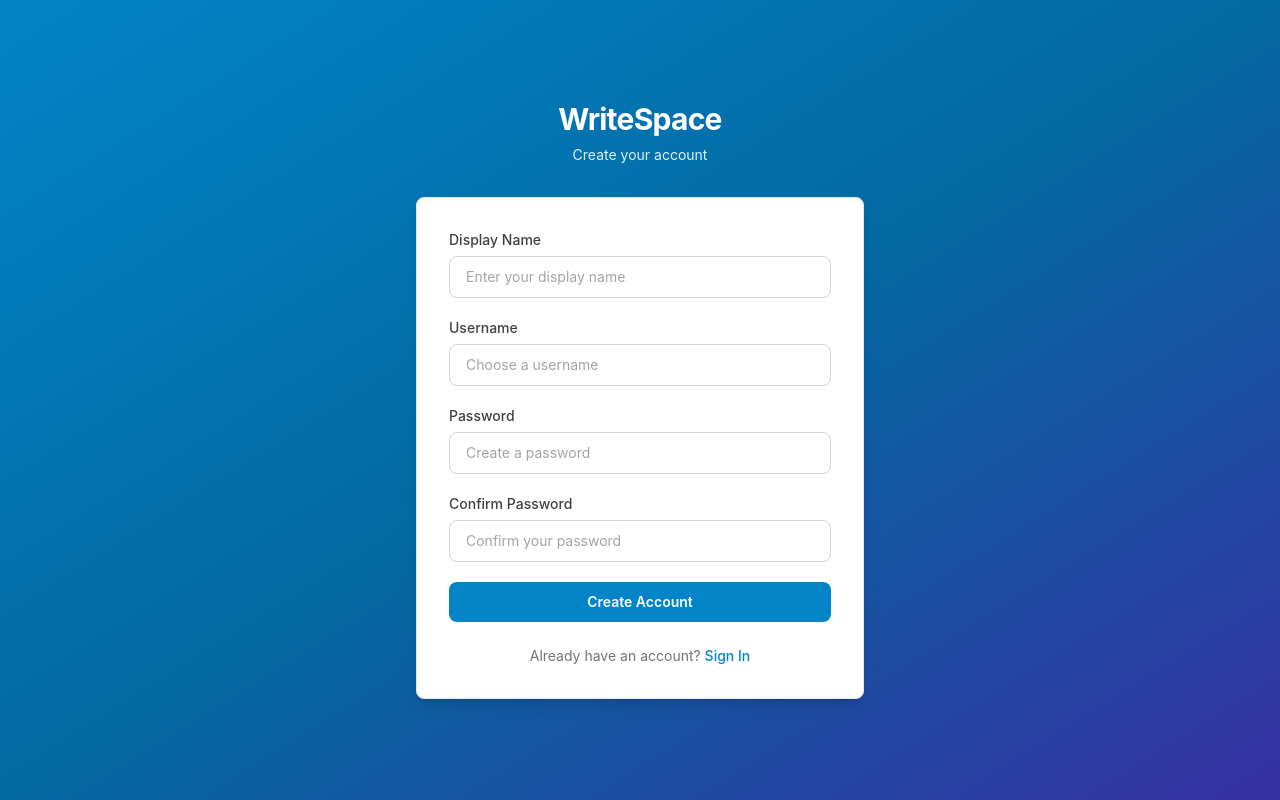
Test: RegisterPage › form validation › shows error when username is empty
Type "Test User" into the field labelled "Display Name". click: {"x": 640, "y": 277}
box: [449, 256, 831, 298]
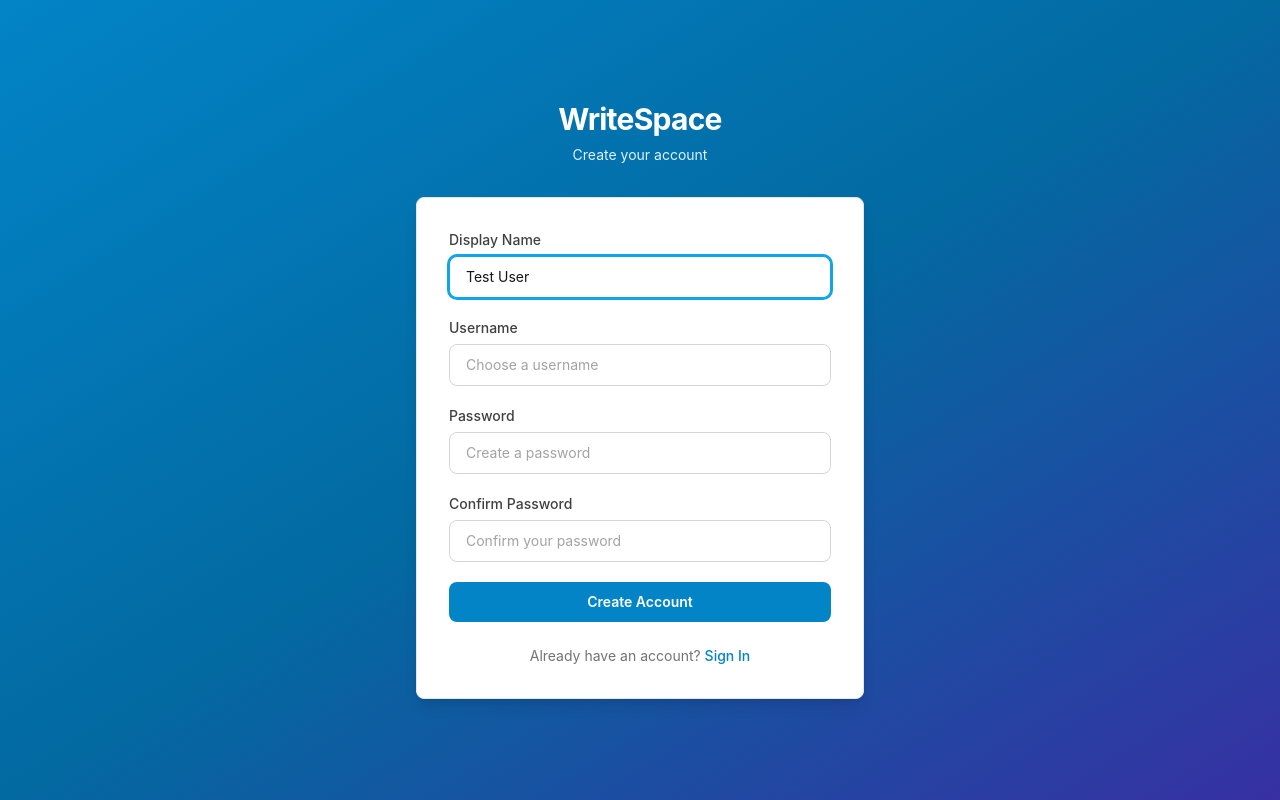
Type "pass123" into the password field labelled "Password". click: {"x": 640, "y": 453}
box: [449, 432, 831, 474]
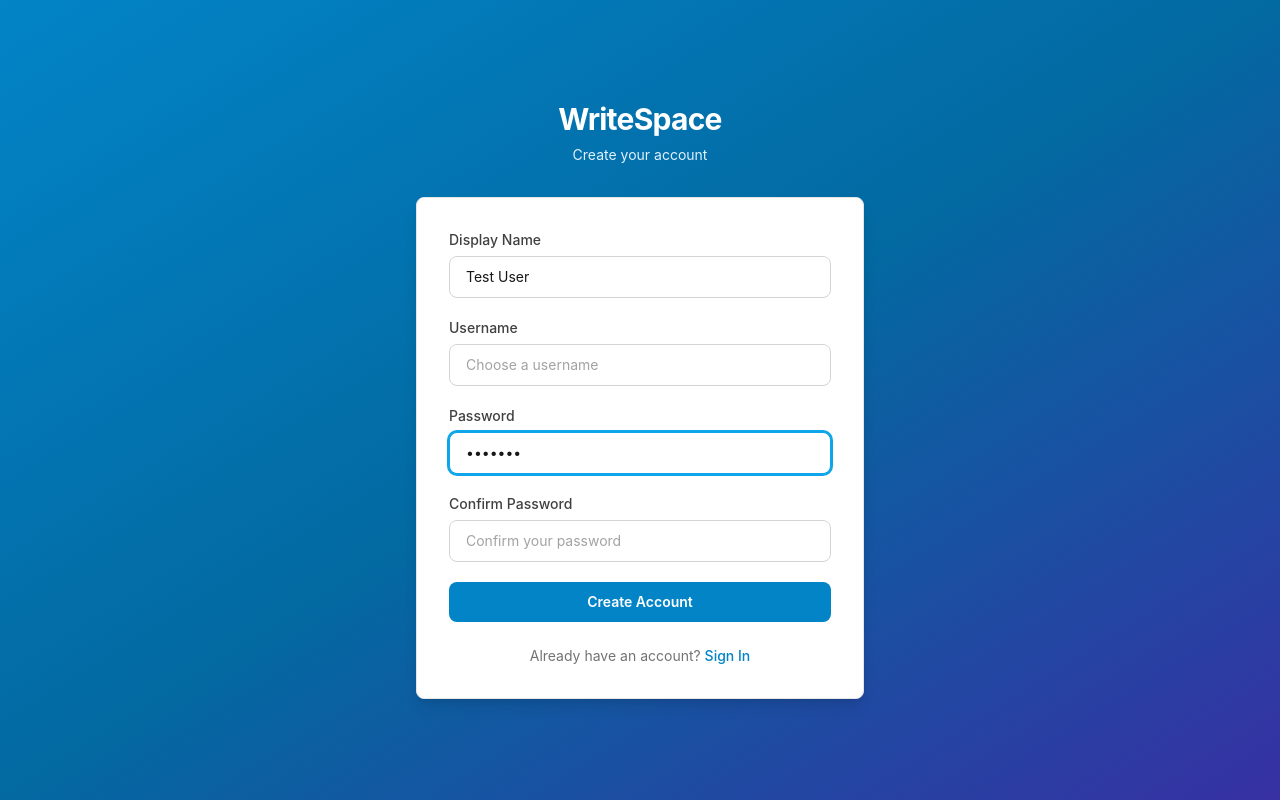
Type "pass123" into the password field labelled "Confirm Password". click: {"x": 640, "y": 541}
box: [449, 520, 831, 562]
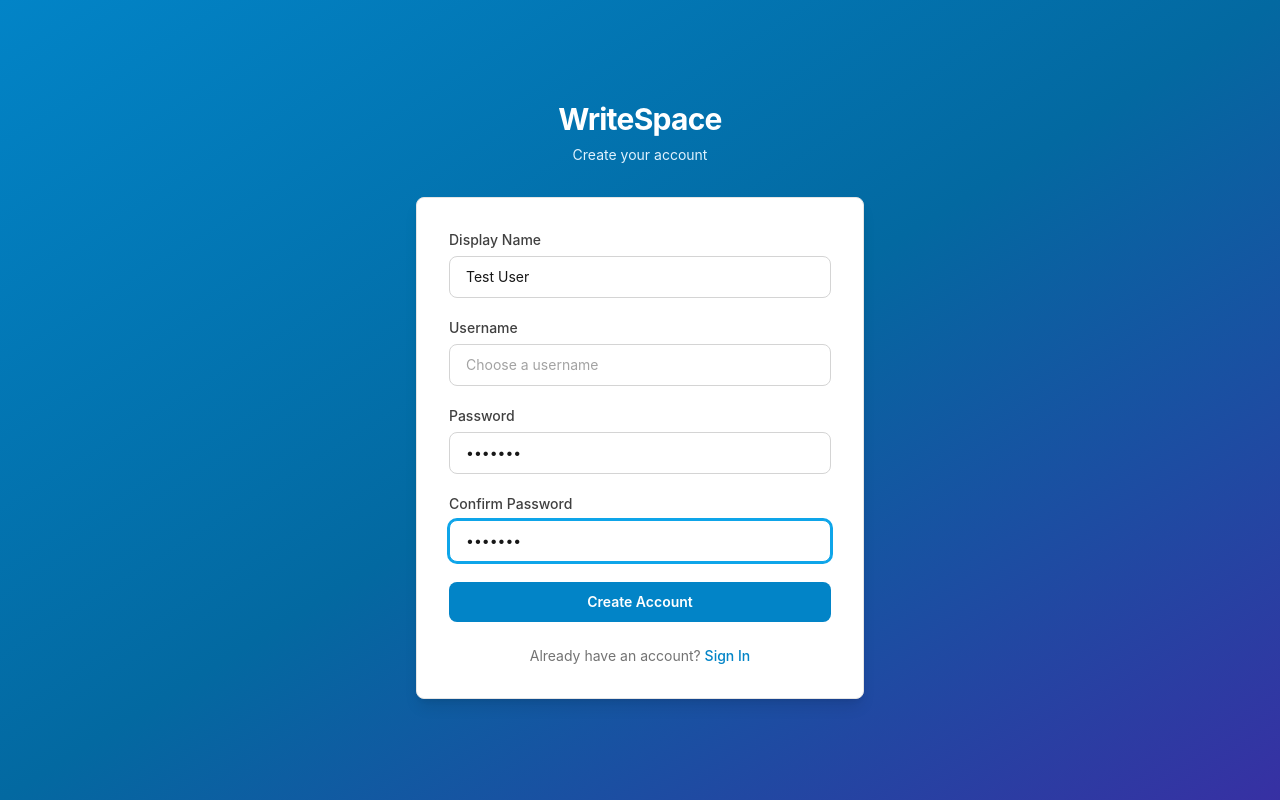
Click the button "Create Account". click: {"x": 640, "y": 602}
box: [449, 582, 831, 622]
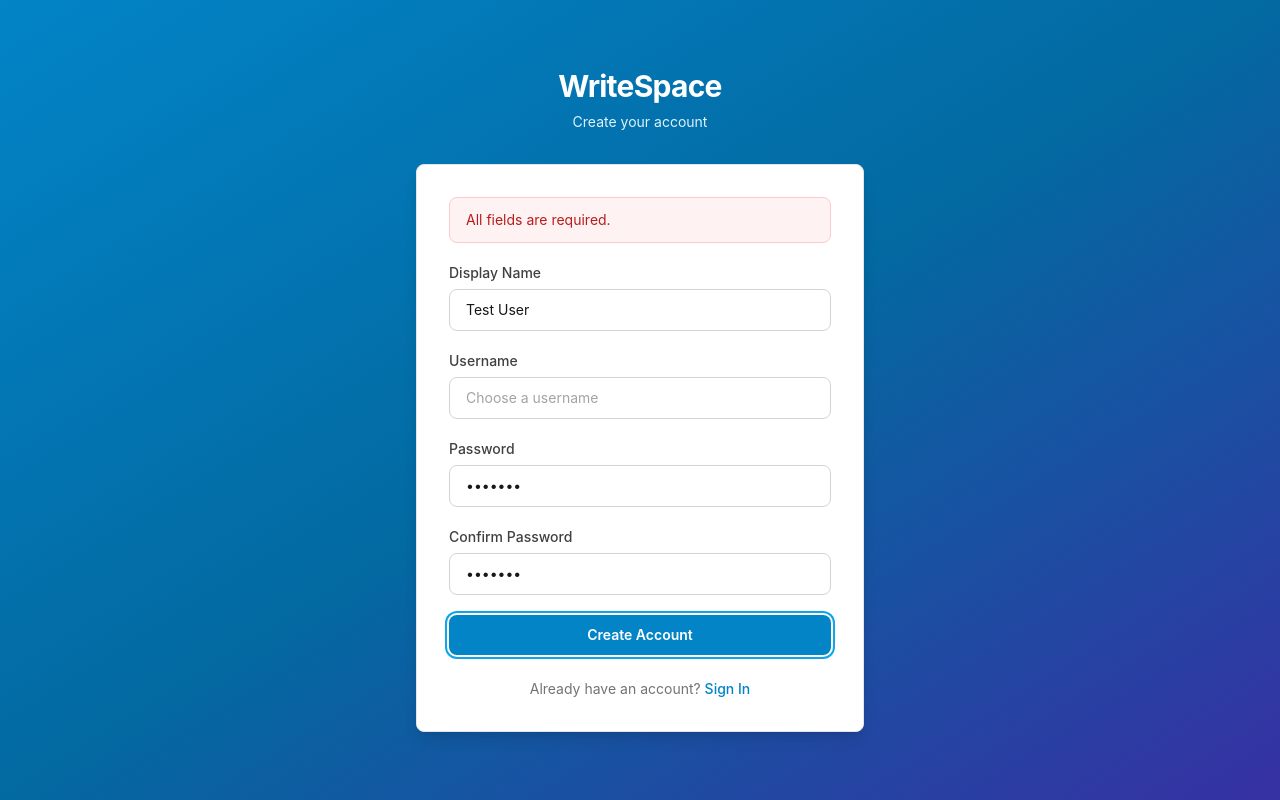
Expected: the text "All fields are required." is shown, [449, 197, 831, 243]
